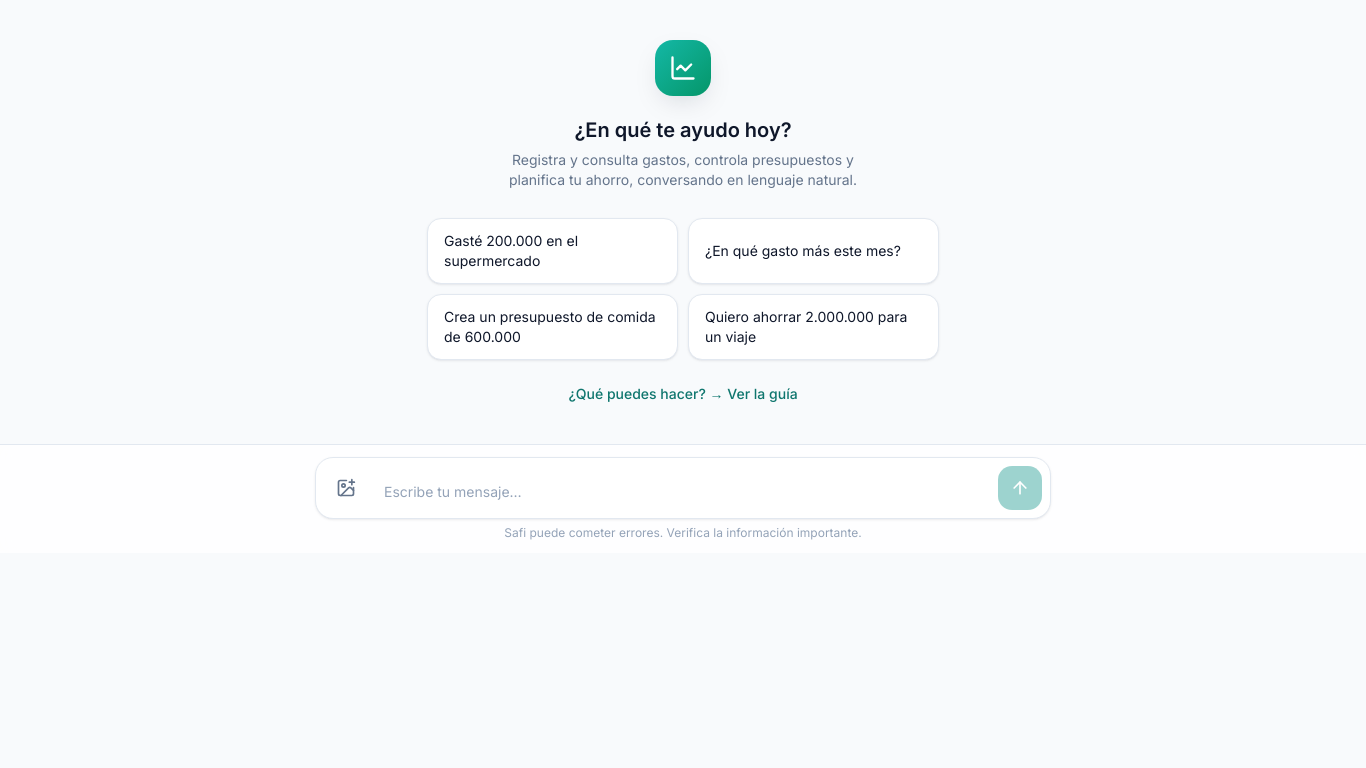
Scenario: ChatView › shows a graceful error bubble when the request fails
Step 1. Type "hola" into the text box → point(683, 492), box [376,474,990,510]
Then press Enter
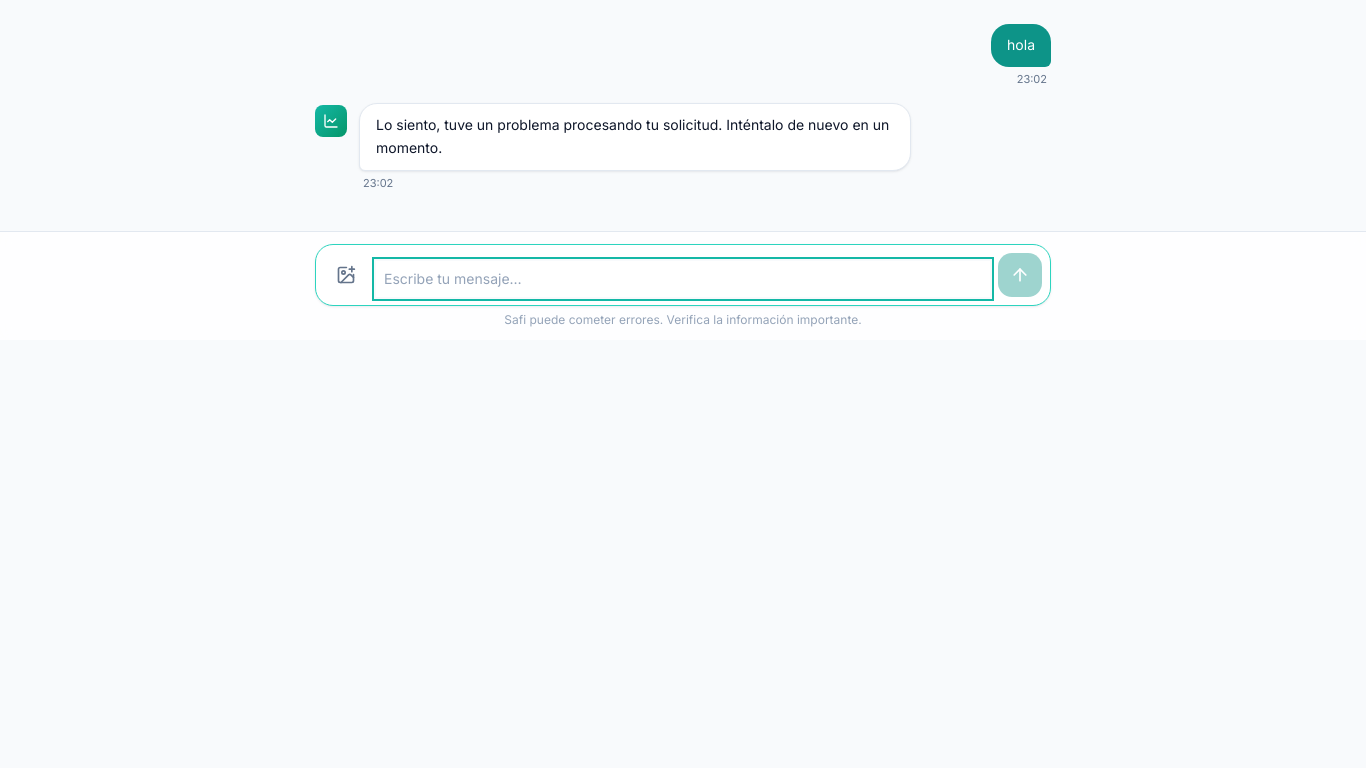
Check: the text "tuve un problema" is shown, box [376,116,889,156]
